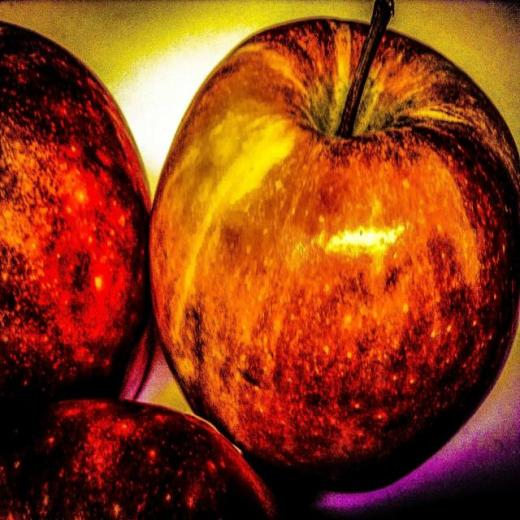Apple: (148, 0, 520, 492), (0, 21, 152, 471), (0, 395, 280, 519)
